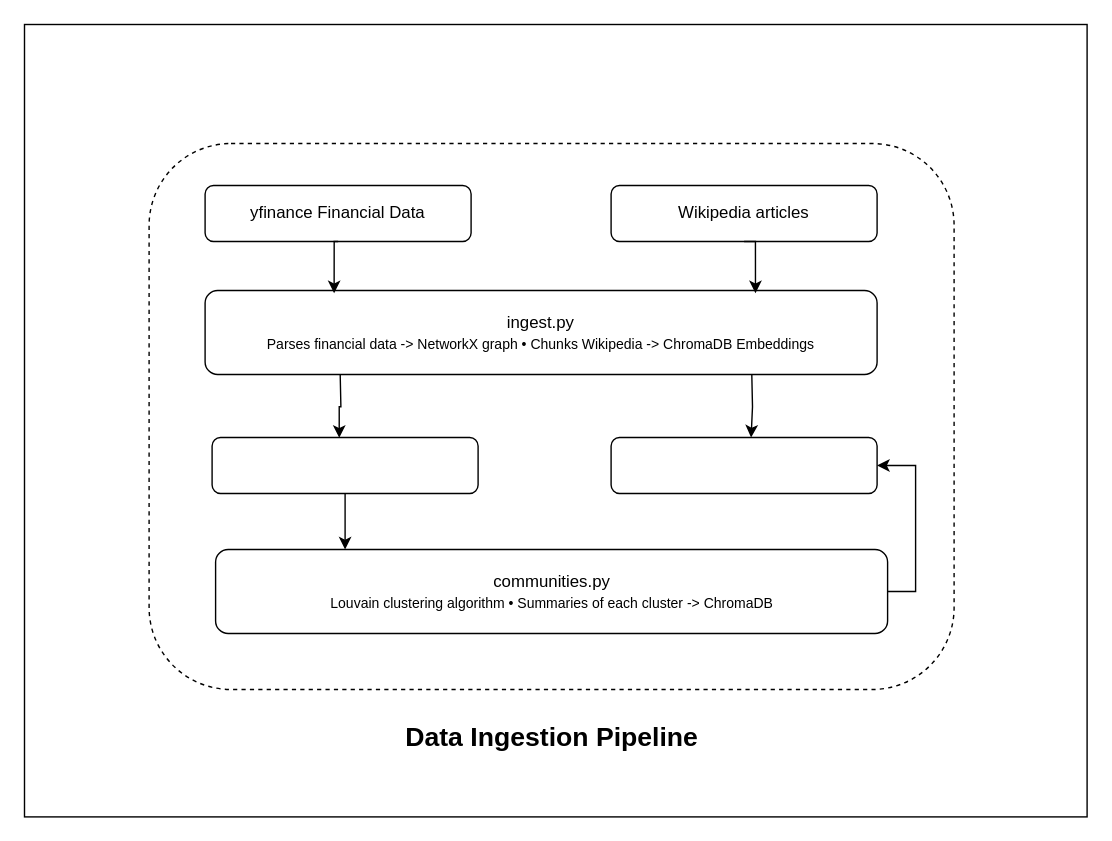
This 1112x841 diagram has some shape labels left out. Here are the shapes that lost their labels. From the top down, the centre of each, then its label:
At (344,464): "NetworkX Knowledge Graph nifty_graph.pkl".
At (743,464): "ChromaDB Vector Store Wikipedia Embeddings + Summaries".
